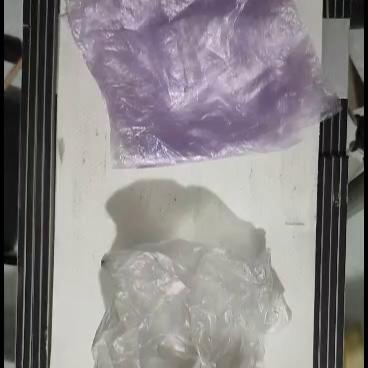Plastik: (66, 0, 342, 169), (91, 248, 290, 368)
